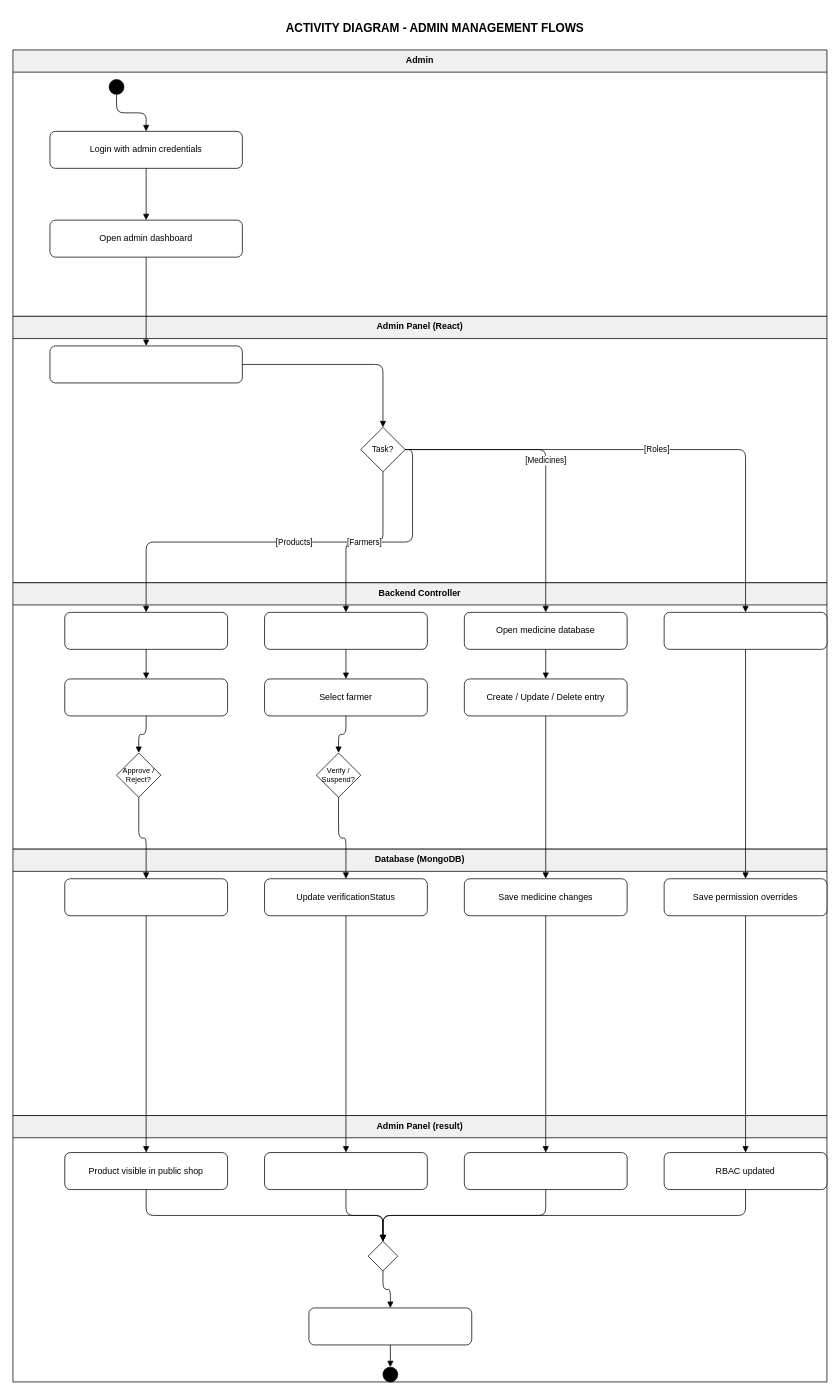
This 840x1395 diagram has some shape labels left out. Each missing label, with the centre of its shape:
"Admin dashboard refreshed" belongs at [390,1326].
"Edit role / permissions" belongs at [745,630].
"Farmer status updated" belongs at [345,1171].
"Medicine DB updated" belongs at [545,1171].
"Review product" belongs at [146,697].
"Select management task" belongs at [145,364].
"Update approvalStatus" belongs at [146,897].
"View farmers list" belongs at [345,630].
"View pending products" belongs at [146,630].
